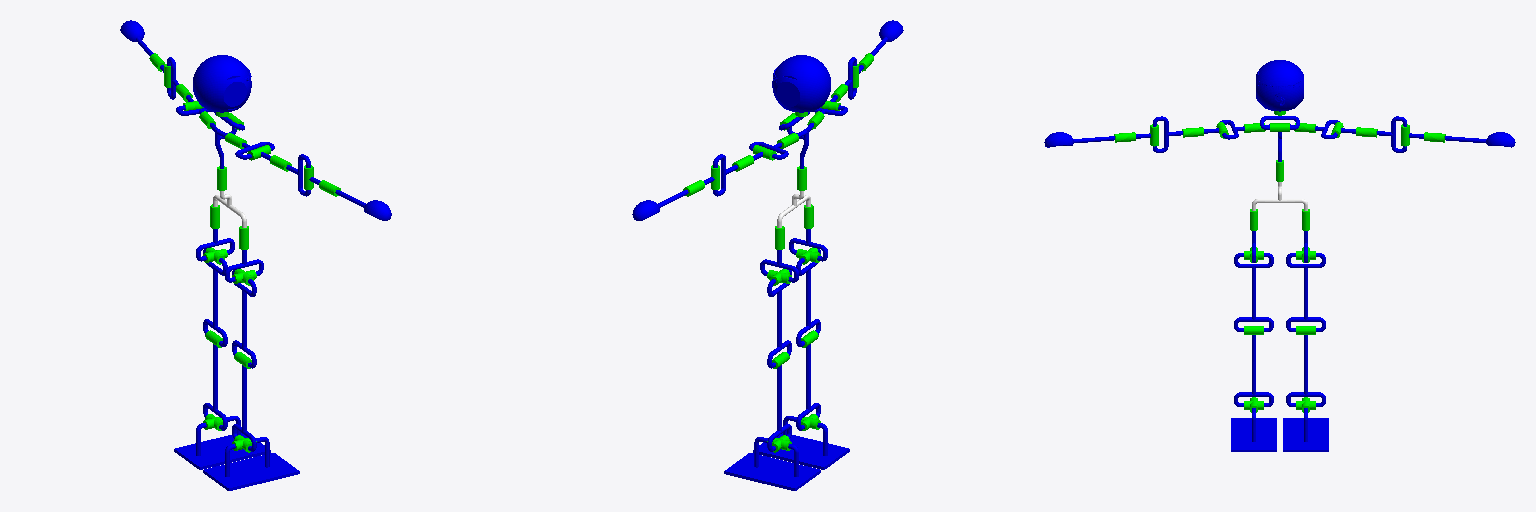
--- Render facts (derived) ---
Views: 3 orthographic renders of the robot side by side, from view 1: azimuth 30°, elevation 25°; view 2: azimuth 150°, elevation 25°; view 3: azimuth 270°, elevation 25°.
Robot: visual — 45 links, 44 joints (27 revolute, 17 fixed); root link base_link; default pose: all joints at 0.
Visible links, largest first — view 1: golova, stopa_r, stopa_l, bedro_r, bedro_l, kist_r, golen_r, golen_l; view 2: golova, stopa_l, stopa_r, bedro_l, bedro_r, kist_l, golen_l, golen_r; view 3: golova, stopa_r, stopa_l, bedro_r, bedro_l, kist_r, kist_l, golen_r, golen_l.
Boxes of the visible links, box(x1,y1,x2,y2) form: golova: box(193, 55, 251, 112); stopa_r: box(203, 437, 299, 490); stopa_l: box(174, 416, 270, 469); bedro_r: box(232, 270, 256, 368); bedro_l: box(203, 249, 227, 346); kist_r: box(335, 190, 391, 220); golen_r: box(232, 365, 256, 451); golen_l: box(203, 344, 227, 430); golova: box(772, 55, 830, 112); stopa_l: box(724, 437, 820, 490); stopa_r: box(753, 416, 849, 469); bedro_l: box(767, 270, 791, 368); bedro_r: box(796, 249, 820, 346); kist_l: box(632, 190, 688, 220); golen_l: box(767, 365, 791, 451); golen_r: box(796, 344, 820, 430); golova: box(1256, 60, 1303, 111); stopa_r: box(1231, 408, 1276, 451); stopa_l: box(1283, 408, 1328, 451); bedro_r: box(1234, 253, 1273, 331); bedro_l: box(1286, 253, 1325, 331); kist_r: box(1044, 132, 1114, 147); kist_l: box(1445, 132, 1515, 147); golen_r: box(1234, 335, 1273, 406); golen_l: box(1286, 335, 1325, 406).
Size in the robot's own frame: 0.2669 by 1.59 by 1.37 metres.
Meshes: 16 distinct files referenced, 45 mesh visuals loaded (16 binary STL).

robot.urdf — visual:
<?xml version="1.0"?>
<robot name="visual">

  <material name="blue">
    <color rgba="0 0 1 1"/>
  </material>
  <material name="red">
    <color rgba="0 1 0 1"/>
  </material>
  <material name="white">
    <color rgba="1 1 1 1"/>
  </material>

  <link name="base_link">
    <visual>
     <origin rpy="0 0 0" xyz="0 0 0.8275" />
      <geometry>              
		<mesh filename="package://arbot_model_pkg/meshes/STL/taz.stl" scale="0.001 0.001 0.001"/>       
      </geometry>
      <material name="white"/>

    </visual>
  </link>

  <!-- ///////////////////////////////////////////////////////////////////////////////////////////////////////////////////// -->
  <!-- RIGHT LEG LINK -->

  <link name="sh_bedro_r">
    <visual>
      <geometry>
               <mesh filename="package://arbot_model_pkg/meshes/STL/model7.stl" scale="0.001 0.001 0.001"/>       
      </geometry>
      <origin rpy="0 0 0" xyz="0 0 0"/>
      <material name="red"/>
    </visual>
  </link>

  <link name="sh_bedro1_r">
    <visual>
      <geometry>
               <mesh filename="package://arbot_model_pkg/meshes/STL/model6.stl" scale="0.001 0.001 0.001"/>       
      </geometry>
      <origin rpy="0 0 0" xyz="0 0 0"/>
      <material name="blue"/>
    </visual>
  </link>

  <link name="kr_bedro_r">
    <visual>
      <geometry>
               <mesh filename="package://arbot_model_pkg/meshes/STL/model2.stl" scale="0.001 0.001 0.001"/>       
      </geometry>
      <origin rpy="0 0 0" xyz="0 0 0"/>
      <material name="red"/>
    </visual>
  </link>

  <link name="bedro_r">
    <visual>
      <geometry>
               <mesh filename="package://arbot_model_pkg/meshes/STL/bedro.stl" scale="0.001 0.001 0.001"/>       
      </geometry>
      <origin rpy="0 0 0" xyz="0 0 -0.28"/>
      <material name="blue"/>
    </visual>
  </link>

  <link name="koleno_r">
    <visual>
      <geometry>
               <mesh filename="package://arbot_model_pkg/meshes/STL/koleno.stl" scale="0.001 0.001 0.001"/>       
      </geometry>
      <origin rpy="0 0 0" xyz="0 0 0"/>
      <material name="red"/>
    </visual>
  </link>

  <link name="golen_r">
    <visual>
      <geometry>
               <mesh filename="package://arbot_model_pkg/meshes/STL/golen.stl" scale="0.001 0.001 0.001"/>       
      </geometry>
      <origin rpy="0 0 0" xyz="0 0 -0.28"/>
      <material name="blue"/>
    </visual>
  </link>

  <link name="kr_stopa_r">
    <visual>
      <geometry>
               <mesh filename="package://arbot_model_pkg/meshes/STL/model2.stl" scale="0.001 0.001 0.001"/>       
      </geometry>
      <origin rpy="0 0 0" xyz="0 0 0"/>
      <material name="red"/>
    </visual>
  </link>

  <link name="stopa_r">
    <visual>
      <geometry>
               <mesh filename="package://arbot_model_pkg/meshes/STL/stopa.stl" scale="0.001 0.001 0.001"/>       
      </geometry>
      <origin rpy="0 0 0" xyz="0 0 -0.1055"/>
      <material name="blue"/>
    </visual>
  </link>

  <!-- ///////////////////////////////////////////////////////////////////////////////////////////////////////////////////// -->
  <!-- TORS LINK -->

  <link name="sh_tors">
    <visual>
      <geometry>
               <mesh filename="package://arbot_model_pkg/meshes/STL/model7.stl" scale="0.001 0.001 0.001"/>       
      </geometry>
      <origin rpy="-3.141592654 0 0" xyz="0 0 0"/>
      <material name="red"/>
    </visual>
  </link>

  <link name="tors">
    <visual>
      <geometry>
               <mesh filename="package://arbot_model_pkg/meshes/STL/tors.stl" scale="0.001 0.001 0.001"/>       
      </geometry>
      <origin rpy="0 3.141592654 1.570796" xyz="0 0 0"/>
      <material name="blue"/>
    </visual>
  </link>

  <!-- ///////////////////////////////////////////////////////////////////////////////////////////////////////////////////// -->
  <!-- LEFT ARM LINK -->

  <link name="sh_plecho_l">
    <visual>
      <geometry>
               <mesh filename="package://arbot_model_pkg/meshes/STL/model11.stl" scale="0.001 0.001 0.001"/>       
      </geometry>
      <origin rpy="0 0 1.570796" xyz="0 0 0"/>
      <material name="red"/>
    </visual>
  </link>

  <link name="plecho_l">
    <visual>
      <geometry>
               <mesh filename="package://arbot_model_pkg/meshes/STL/model10.stl" scale="0.001 0.001 0.001"/>       
      </geometry>
      <origin rpy="0 0 1.570796" xyz="0 0 0"/>
      <material name="blue"/>
    </visual>
  </link>

  <link name="sh_plecho1_l">
    <visual>
      <geometry>
               <mesh filename="package://arbot_model_pkg/meshes/STL/koleno.stl" scale="0.001 0.001 0.001"/>       
      </geometry>
      <origin rpy="0 0 1.570796" xyz="0 0 0"/>
      <material name="red"/>
    </visual>
  </link>

  <link name="lokot_l">
    <visual>
      <geometry>
               <mesh filename="package://arbot_model_pkg/meshes/STL/model13.stl" scale="0.001 0.001 0.001"/>       
      </geometry>
      <origin rpy="0 0 0" xyz="0 0 0"/>
      <material name="blue"/>
    </visual>
  </link>

  <link name="sh_lokot_l">
    <visual>
      <geometry>
               <mesh filename="package://arbot_model_pkg/meshes/STL/model7.stl" scale="0.001 0.001 0.001"/>       
      </geometry>
      <origin rpy="0 0 0" xyz="0 0 0"/>
      <material name="red"/>
    </visual>
  </link>

  <link name="sh_lokot1_l">
    <visual>
      <geometry>
               <mesh filename="package://arbot_model_pkg/meshes/STL/model6.stl" scale="0.001 0.001 0.001"/>       
      </geometry>
      <origin rpy="0 0 1.570796" xyz="0 0 0"/>
      <material name="blue"/>
    </visual>
  </link>

  <link name="sh_predpl_l">
    <visual>
      <geometry>
               <mesh filename="package://arbot_model_pkg/meshes/STL/koleno.stl" scale="0.001 0.001 0.001"/>       
      </geometry>
      <origin rpy="0 0 0" xyz="0 0 0"/>
      <material name="red"/>
    </visual>
  </link>

  <link name="predpl_l">
    <visual>
      <geometry>
               <mesh filename="package://arbot_model_pkg/meshes/STL/model13.stl" scale="0.001 0.001 0.001"/>       
      </geometry>
      <origin rpy="0 0 0" xyz="0 0 0"/>
      <material name="blue"/>
    </visual>
  </link>

  <link name="sh_kist_l">
    <visual>
      <geometry>
               <mesh filename="package://arbot_model_pkg/meshes/STL/model7.stl" scale="0.001 0.001 0.001"/>       
      </geometry>
      <origin rpy="0 0 0" xyz="0 0 0"/>
      <material name="red"/>
    </visual>
  </link>

  <link name="kist_l">
    <visual>
      <geometry>
               <mesh filename="package://arbot_model_pkg/meshes/STL/kist.stl" scale="0.001 0.001 0.001"/>       
      </geometry>
      <origin rpy="0 0 1.570796" xyz="0 0 0"/>
      <material name="blue"/>
    </visual>
  </link>

  <!-- ///////////////////////////////////////////////////////////////////////////////////////////////////////////////////// -->
  <!-- LEFT LEG LINK -->

  <link name="sh_bedro_l">
    <visual>
      <geometry>
               <mesh filename="package://arbot_model_pkg/meshes/STL/model7.stl" scale="0.001 0.001 0.001"/>       
      </geometry>
      <origin rpy="0 0 0" xyz="0 0 0"/>
      <material name="red"/>
    </visual>
  </link>

  <link name="sh_bedro1_l">
    <visual>
      <geometry>
               <mesh filename="package://arbot_model_pkg/meshes/STL/model6.stl" scale="0.001 0.001 0.001"/>       
      </geometry>
      <origin rpy="0 0 0" xyz="0 0 0"/>
      <material name="blue"/>
    </visual>
  </link>

  <link name="kr_bedro_l">
    <visual>
      <geometry>
               <mesh filename="package://arbot_model_pkg/meshes/STL/model2.stl" scale="0.001 0.001 0.001"/>       
      </geometry>
      <origin rpy="0 0 0" xyz="0 0 0"/>
      <material name="red"/>
    </visual>
  </link>

  <link name="bedro_l">
    <visual>
      <geometry>
               <mesh filename="package://arbot_model_pkg/meshes/STL/bedro.stl" scale="0.001 0.001 0.001"/>       
      </geometry>
      <origin rpy="0 0 0" xyz="0 0 -0.28"/>
      <material name="blue"/>
    </visual>
  </link>

  <link name="koleno_l">
    <visual>
      <geometry>
               <mesh filename="package://arbot_model_pkg/meshes/STL/koleno.stl" scale="0.001 0.001 0.001"/>       
      </geometry>
      <origin rpy="0 0 0" xyz="0 0 0"/>
      <material name="red"/>
    </visual>
  </link>

  <link name="golen_l">
    <visual>
      <geometry>
               <mesh filename="package://arbot_model_pkg/meshes/STL/golen.stl" scale="0.001 0.001 0.001"/>       
      </geometry>
      <origin rpy="0 0 0" xyz="0 0 -0.28"/>
      <material name="blue"/>
    </visual>
  </link>

  <link name="kr_stopa_l">
    <visual>
      <geometry>
               <mesh filename="package://arbot_model_pkg/meshes/STL/model2.stl" scale="0.001 0.001 0.001"/>       
      </geometry>
      <origin rpy="0 0 0" xyz="0 0 0"/>
      <material name="red"/>
    </visual>
  </link>

  <link name="stopa_l">
    <visual>
      <geometry>
               <mesh filename="package://arbot_model_pkg/meshes/STL/stopa.stl" scale="0.001 0.001 0.001"/>       
      </geometry>
      <origin rpy="0 0 0" xyz="0 0 -0.1055"/>
      <material name="blue"/>
    </visual>
  </link>

  <!-- ///////////////////////////////////////////////////////////////////////////////////////////////////////////////////// -->
  <!-- RIGHT ARM LINK -->

  <link name="sh_plecho_r">
    <visual>
      <geometry>
               <mesh filename="package://arbot_model_pkg/meshes/STL/model11.stl" scale="0.001 0.001 0.001"/>       
      </geometry>
      <origin rpy="0 0 1.570796" xyz="0 0 0"/>
      <material name="red"/>
    </visual>
  </link>

  <link name="plecho_r">
    <visual>
      <geometry>
               <mesh filename="package://arbot_model_pkg/meshes/STL/model10.stl" scale="0.001 0.001 0.001"/>       
      </geometry>
      <origin rpy="0 0 1.570796" xyz="0 0 0"/>
      <material name="blue"/>
    </visual>
  </link>

  <link name="sh_plecho1_r">
    <visual>
      <geometry>
               <mesh filename="package://arbot_model_pkg/meshes/STL/koleno.stl" scale="0.001 0.001 0.001"/>       
      </geometry>
      <origin rpy="0 0 1.570796" xyz="0 0 0"/>
      <material name="red"/>
    </visual>
  </link>

  <link name="lokot_r">
    <visual>
      <geometry>
               <mesh filename="package://arbot_model_pkg/meshes/STL/model13.stl" scale="0.001 0.001 0.001"/>       
      </geometry>
      <origin rpy="0 0 1.570796" xyz="0 0 0"/>
      <material name="blue"/>
    </visual>
  </link>

  <link name="sh_lokot_r">
    <visual>
      <geometry>
               <mesh filename="package://arbot_model_pkg/meshes/STL/model7.stl" scale="0.001 0.001 0.001"/>       
      </geometry>
      <origin rpy="0 0 1.570796" xyz="0 0 0"/>
      <material name="red"/>
    </visual>
  </link>

  <link name="sh_lokot1_r">
    <visual>
      <geometry>
               <mesh filename="package://arbot_model_pkg/meshes/STL/model6.stl" scale="0.001 0.001 0.001"/>       
      </geometry>
      <origin rpy="0 0 1.570796" xyz="0 0 0"/>
      <material name="blue"/>
    </visual>
  </link>

  <link name="sh_predpl_r">
    <visual>
      <geometry>
               <mesh filename="package://arbot_model_pkg/meshes/STL/koleno.stl" scale="0.001 0.001 0.001"/>       
      </geometry>
      <origin rpy="0 0 0" xyz="0 0 0"/>
      <material name="red"/>
    </visual>
  </link>

  <link name="predpl_r">
    <visual>
      <geometry>
               <mesh filename="package://arbot_model_pkg/meshes/STL/model13.stl" scale="0.001 0.001 0.001"/>       
      </geometry>
      <origin rpy="0 0 0" xyz="0 0 0"/>
      <material name="blue"/>
    </visual>
  </link>

  <link name="sh_kist_r">
    <visual>
      <geometry>
               <mesh filename="package://arbot_model_pkg/meshes/STL/model7.stl" scale="0.001 0.001 0.001"/>       
      </geometry>
      <origin rpy="0 0 0" xyz="0 0 0"/>
      <material name="red"/>
    </visual>
  </link>

  <link name="kist_r">
    <visual>
      <geometry>
               <mesh filename="package://arbot_model_pkg/meshes/STL/kist.stl" scale="0.001 0.001 0.001"/>       
      </geometry>
      <origin rpy="0 0 1.570796" xyz="0 0 0"/>
      <material name="blue"/>
    </visual>
  </link>

  <!-- ///////////////////////////////////////////////////////////////////////////////////////////////////////////////////// -->
  <!-- HEAD LINK -->

  <link name="sh_golova_n">
    <visual>
      <geometry>
               <mesh filename="package://arbot_model_pkg/meshes/STL/koleno.stl" scale="0.001 0.001 0.001"/>       
      </geometry>
      <origin rpy="0 0 0" xyz="0 0 0"/>
      <material name="red"/>
    </visual>
  </link>

  <link name="golova_n">
    <visual>
      <geometry>
               <mesh filename="package://arbot_model_pkg/meshes/STL/golovan.stl" scale="0.001 0.001 0.001"/>       
      </geometry>
      <origin rpy="0 0 0" xyz="0 0 0"/>
      <material name="blue"/>
    </visual>
  </link>

  <link name="sh_sheya">
    <visual>
      <geometry>
               <mesh filename="package://arbot_model_pkg/meshes/STL/sheya.stl" scale="0.001 0.001 0.001"/>       
      </geometry>
      <origin rpy="0 0 0" xyz="0 0 0"/>
      <material name="red"/>
    </visual>
  </link>

  <link name="sheya">
    <visual>
      <geometry>
               <mesh filename="package://arbot_model_pkg/meshes/STL/model10.stl" scale="0.001 0.001 0.001"/>       
      </geometry>
      <origin rpy="0 1.570796 1.570796" xyz="0 0 0"/>
      <material name="blue"/>
    </visual>
  </link>

  <link name="kr_golova">
    <visual>
      <geometry>
               <mesh filename="package://arbot_model_pkg/meshes/STL/model2.stl" scale="0.001 0.001 0.001"/>       
      </geometry>
      <origin rpy="0 0 0" xyz="0 0 0"/>
      <material name="red"/>
    </visual>
  </link>

  <link name="golova">
    <visual>
      <geometry>
               <mesh filename="package://arbot_model_pkg/meshes/STL/golova.stl" scale="0.001 0.001 0.001"/>       
      </geometry>
      <origin rpy="0 0 0" xyz="0 0 0"/>
      <material name="blue"/>
    </visual>
  </link>


  <joint name="sh_golova_n_joint" type="fixed">
    <parent link="tors"/>
    <child link="sh_golova_n"/>
    <origin  rpy="0 3.1415926540 3.1415926540" xyz="0.044 0 -0.15"/>
  </joint>

  <joint name="Golova_naklon" type="revolute">
    <parent link="sh_golova_n"/>
    <child link="golova_n"/>
    <origin  rpy="0 -1.0472 0" xyz="0 0 0"/>
    <axis xyz="0 1 0" />
    <limit effort="300" velocity="0.1" lower="0" upper="1.0472"/>
    <dynamics damping="50" friction="1"/>
  </joint>

  <joint name="Golova_povorot" type="revolute">
    <parent link="golova_n"/>
    <child link="sh_sheya"/>
    <origin  rpy="0 1.0472 0" xyz="0.008660254038 0 0.055"/>
    <axis xyz="0 0 1" />
    <limit effort="300" velocity="0.1" lower="-0.785398" upper="0.785398"/>
    <dynamics damping="50" friction="1"/>
  </joint>

  <joint name="sheya1_joint" type="fixed">
    <parent link="sh_sheya"/>
    <child link="sheya"/>
    <origin  rpy="0 0 0" xyz="0 0 0.02"/>
  </joint>

  <joint name="Golova_kachanie" type="revolute">
    <parent link="sheya"/>
    <child link="kr_golova"/>
    <origin  rpy="0 0 3.141592654" xyz="0 0 0.08"/>
    <axis xyz="1 0 0" />
    <limit effort="300" velocity="0.1" lower="-0.261799" upper="0.261799"/>
    <dynamics damping="50" friction="1"/>
  </joint>

  <joint name="Golova_kivanie_unnecessary" type="revolute">
    <parent link="kr_golova"/>
    <child link="golova"/>
    <origin  rpy="0 0 3.141592654" xyz="0 0 0"/>
    <axis xyz="0 1 0" />
    <limit effort="300" velocity="0.1" lower="-0.349066" upper="0.523599"/>
    <dynamics damping="50" friction="1"/>
  </joint>

  <joint name="Tors" type="revolute">
    <parent link="base_link"/>
    <child link="sh_tors"/>
    <origin rpy="3.141592654 0 0" xyz="-0.0276 0 0.9325"/>
    <axis xyz="0 0 1" />
    <limit effort="300" velocity="0.1" lower="-0.785398" upper="0.785398"/>
    <dynamics damping="50" friction="1"/>
  </joint>

  <joint name="tors_joint" type="fixed">
    <parent link="sh_tors"/>
    <child link="tors"/>
    <origin rpy="0 0 0" xyz="0 0 -0.065"/>
  </joint>


  <joint name="Ruka_X_Left" type="revolute">
    <parent link="tors"/>
    <child link="sh_plecho_l"/>
    <origin  rpy="0 0 0.174533" xyz="-0.005970294761 -0.05121000316 -0.13"/>
    <axis xyz="0 1 0" />
    <limit effort="300" velocity="0.1" lower="-0.261799" upper="1.5707"/>
    <dynamics damping="50" friction="1"/>
  </joint>

  <joint name="plecho_l_joint" type="fixed">
    <parent link="sh_plecho_l"/>
    <child link="plecho_l"/>
    <origin xyz="0 -0.065 0"/>
  </joint>

  <joint name="Ruka_Y_Left" type="revolute">
    <parent link="plecho_l"/>
    <child link="sh_plecho1_l"/>
    <origin  rpy="-1.570796327 0 0" xyz="0 -0.08 0"/>
    <axis xyz="1 0 0" />
    <limit effort="300" velocity="0.1" lower="-1.570796327" upper="0.261799"/>
    <dynamics damping="50" friction="1"/>
  </joint>

  <joint name="lokot_l_joint" type="fixed">
    <parent link="sh_plecho1_l"/>
    <child link="lokot_l"/>
    <origin  rpy="0 0 0" xyz="0 0 -0.071"/>
  </joint>

  <joint name="Lokot_vr_Left" type="revolute">
    <parent link="lokot_l"/>
    <child link="sh_lokot_l"/>
    <origin  rpy="0 0 0" xyz="0 0 -0.065"/>
    <axis xyz="0 0 1" />
    <limit effort="300" velocity="0.1" lower="-0.785398" upper="0.785398"/>
    <dynamics damping="50" friction="1"/>
  </joint>

  <joint name="sh_lokot1_l_joint" type="fixed">
    <parent link="sh_lokot_l"/>
    <child link="sh_lokot1_l"/>
    <origin  rpy="0 0 0" xyz="0 0 -0.097"/>
  </joint>

  <joint name="Lokot_Left" type="revolute">
    <parent link="sh_lokot1_l"/>
    <child link="sh_predpl_l"/>
    <origin  rpy="0 0 3.141592654" xyz="0 0 0"/>
    <axis xyz="0 1 0" />
    <limit effort="300" velocity="0.1" lower="0" upper="2.26893"/>
    <dynamics damping="50" friction="1"/>
  </joint>

  <joint name="predpl_l_joint" type="fixed">
    <parent link="sh_predpl_l"/>
    <child link="predpl_l"/>
    <origin  rpy="0 0 0" xyz="0 0 -0.071"/>
  </joint>

  <joint name="Kist_povorot_Left" type="revolute">
    <parent link="predpl_l"/>
    <child link="sh_kist_l"/>
    <origin  rpy="0 0 0" xyz="0 0 -0.065"/>
    <axis xyz="0 0 1" />
    <limit effort="300" velocity="0.1" lower="-0.785398" upper="0.785398"/>
    <dynamics damping="50" friction="1"/>
  </joint>

  <joint name="kist_l_joint" type="fixed">
    <parent link="sh_kist_l"/>
    <child link="kist_l"/>
    <origin  rpy="0 0 0" xyz="0 0 0.005"/>
  </joint>


  <joint name="Ruka_X_Right" type="revolute">
    <parent link="tors"/>
    <child link="sh_plecho_r"/>
    <origin  rpy="0 3.1415926540 -0.174532925" xyz="0.00641296138 0.1201465459 -0.13"/> 
    <axis xyz="0 1 0" />
    <limit effort="300" velocity="0.1" lower="-0.261799" upper="1.5708"/>
    <dynamics damping="50" friction="1"/>
  </joint>

  <joint name="plecho_r_joint" type="fixed">
    <parent link="sh_plecho_r"/>
    <child link="plecho_r"/>
    <origin rpy="0 0 3.1415926540" xyz="0 -0.005 0"/>
  </joint>

  <joint name="Ruka_Y_Right" type="revolute">
    <parent link="plecho_r"/>
    <child link="sh_plecho1_r"/>
    <origin  rpy="1.570796327 0 3.1415926540" xyz="0 -0.08 0"/>
    <axis xyz="1 0 0" />
    <limit effort="300" velocity="0.1" lower="-1.570796327" upper="0.261799"/>
    <dynamics damping="50" friction="1"/>
  </joint>

  <joint name="lokot_r_joint" type="fixed">
    <parent link="sh_plecho1_r"/>
    <child link="lokot_r"/>
    <origin  rpy="0 0 0" xyz="0 0 -0.071"/>
  </joint>

  <joint name="Lokot_vr_Right" type="revolute">
    <parent link="lokot_r"/>
    <child link="sh_lokot_r"/>
    <origin  rpy="0 0 0" xyz="0 0 -0.065"/>
    <axis xyz="0 0 1" />
    <limit effort="300" velocity="0.1" lower="-0.785398" upper="0.785398"/>
    <dynamics damping="50" friction="1"/>
  </joint>

  <joint name="sh_lokot1_r_joint" type="fixed">
    <parent link="sh_lokot_r"/>
    <child link="sh_lokot1_r"/>
    <origin  rpy="0 0 0" xyz="0 0 -0.097"/>
  </joint>

  <joint name="Lokot_Right" type="revolute">
    <parent link="sh_lokot1_r"/>
    <child link="sh_predpl_r"/>
    <origin  rpy="0 0 0" xyz="0 0 0"/>
    <axis xyz="0 1 0" />
    <limit effort="300" velocity="0.1" lower="0" upper="2.26893"/>
    <dynamics damping="50" friction="1"/>
  </joint>


  <joint name="predpl_r_joint" type="fixed">
    <parent link="sh_predpl_r"/>
    <child link="predpl_r"/>
    <origin  rpy="0 0 0" xyz="0 0 -0.071"/>
  </joint>

  <joint name="Kist_povorot_Right" type="revolute">
    <parent link="predpl_r"/>
    <child link="sh_kist_r"/>
    <origin  rpy="3.1415926540 0 0" xyz="0 0 0.005"/>
    <axis xyz="0 0 1" />
    <limit effort="300" velocity="0.1" lower="-0.785398" upper="0.785398"/>
    <dynamics damping="50" friction="1"/>
  </joint>

  <joint name="kist_r_joint" type="fixed">
    <parent link="sh_kist_r"/>
    <child link="kist_r"/>
    <origin  rpy="-3.1415926540 0 3.1415926540" xyz="0 0 0.065"/>
  </joint>


  <joint name="Bedro_vr_Left" type="revolute">
    <parent link="base_link"/>
    <child link="sh_bedro_l"/>
    <origin xyz="0 0.088 0.7625"/>
    <axis xyz="0 0 1" />
    <limit effort="300" velocity="0.1" lower="-0.349066" upper="0.349066"/>
    <dynamics damping="50" friction="1"/>
  </joint>

  <joint name="kr_bedro_l" type="fixed">
    <parent link="sh_bedro_l"/>
    <child link="sh_bedro1_l"/>
    <origin xyz="0 0 -0.097"/>
  </joint>

  <joint name="Bedro_Y_Left" type="revolute">
    <parent link="sh_bedro1_l"/>
    <child link="kr_bedro_l"/>
    <origin xyz="0 0 0"/>
    <axis xyz="1 0 0" />
    <limit effort="300" velocity="0.1" lower="-0.191986" upper="0.349066"/>
    <dynamics damping="50" friction="1"/>
  </joint>

  <joint name="Bedro_X_Left" type="revolute">
    <parent link="kr_bedro_l"/>
    <child link="bedro_l"/>
    <origin xyz="0 0 0"/>
    <axis xyz="0 1 0" />
    <limit effort="300" velocity="0.1" lower="-1.22173" upper="0.785398"/>
    <dynamics damping="50" friction="1"/>
  </joint>

  <joint name="Koleno_Left" type="revolute">
    <parent link="bedro_l"/>
    <child link="koleno_l"/>
    <origin xyz="0 0 -0.28"/>
    <axis xyz="0 1 0" />
    <limit effort="300" velocity="0.1" lower="0" upper="2.44346"/>
    <dynamics damping="50" friction="1"/>
  </joint>

  <joint name="golen_l_joint" type="fixed">
    <parent link="koleno_l"/>
    <child link="golen_l"/>
    <origin xyz="0 0 0"/>
  </joint>

  <joint name="Stopa_X_Left" type="revolute">
    <parent link="golen_l"/>
    <child link="kr_stopa_l"/>
    <origin xyz="0 0 -0.28"/>
    <axis xyz="0 1 0" />
    <limit effort="300" velocity="0.1" lower="-1.22173" upper="0.575959"/>
    <dynamics damping="50" friction="1"/>
  </joint>

  <joint name="Stopa_Y_Left" type="revolute">
    <parent link="kr_stopa_l"/>
    <child link="stopa_l"/>
    <origin xyz="0 0 0"/>
    <axis xyz="1 0 0" />
    <limit effort="300" velocity="0.1" lower="-0.191986" upper="0.349066"/>
    <dynamics damping="50" friction="1"/>
  </joint>

  <joint name="Bedro_vr_Right" type="revolute">
    <parent link="base_link"/>
    <child link="sh_bedro_r"/>
    <origin xyz="0 -0.088 0.7625"/>
    <axis xyz="0 0 1" />
    <limit effort="300" velocity="0.1" lower="-0.349066" upper="0.349066"/>
    <dynamics damping="50" friction="1"/>
  </joint>

  <joint name="kr_bedro_r" type="fixed">
    <parent link="sh_bedro_r"/>
    <child link="sh_bedro1_r"/>
    <origin xyz="0 0 -0.097"/>
  </joint>

  <joint name="Bedro_Y_Right" type="revolute">
    <parent link="sh_bedro1_r"/>
    <child link="kr_bedro_r"/>
    <origin xyz="0 0 0"/>
    <axis xyz="1 0 0" />
    <limit effort="300" velocity="0.1" lower="-0.349066" upper="0.191986"/>
    <dynamics damping="50" friction="1"/>
  </joint>

  <joint name="Bedro_X_Right" type="revolute">
    <parent link="kr_bedro_r"/>
    <child link="bedro_r"/>
    <origin xyz="0 0 0"/>
    <axis xyz="0 1 0" />
    <limit effort="300" velocity="0.1" lower="-1.22173" upper="0.785398"/>
    <dynamics damping="50" friction="1"/>
  </joint>

  <joint name="Koleno_Right" type="revolute">
    <parent link="bedro_r"/>
    <child link="koleno_r"/>
    <origin xyz="0 0 -0.28"/>
    <axis xyz="0 1 0" />
    <limit effort="300" velocity="0.1" lower="0" upper="2.44346"/>
    <dynamics damping="50" friction="1"/>
  </joint>

  <joint name="golen_r_joint" type="fixed">
    <parent link="koleno_r"/>
    <child link="golen_r"/>
    <origin xyz="0 0 0"/>
  </joint>

  <joint name="Stopa_X_Right" type="revolute">
    <parent link="golen_r"/>
    <child link="kr_stopa_r"/>
    <origin xyz="0 0 -0.28"/>
    <axis xyz="0 1 0" />
    <limit effort="300" velocity="0.1" lower="-1.22173" upper="0.575959"/>
    <dynamics damping="50" friction="1"/>
  </joint>

  <joint name="Stopa_Y_Right" type="revolute">
    <parent link="kr_stopa_r"/>
    <child link="stopa_r"/>
    <origin xyz="0 0 0"/>
    <axis xyz="1 0 0" />
    <limit effort="300" velocity="0.1" lower="-0.349066" upper="0.191986"/>
    <dynamics damping="50" friction="1"/>
  </joint>

</robot>
